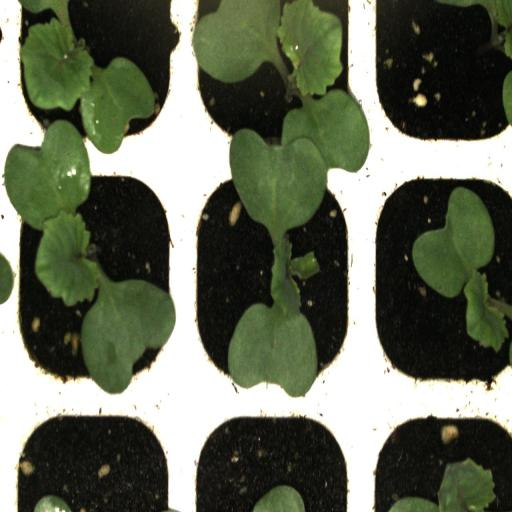seedling: (182, 154, 368, 403), (5, 148, 184, 400), (364, 165, 512, 397), (184, 2, 366, 166), (4, 0, 185, 157)
